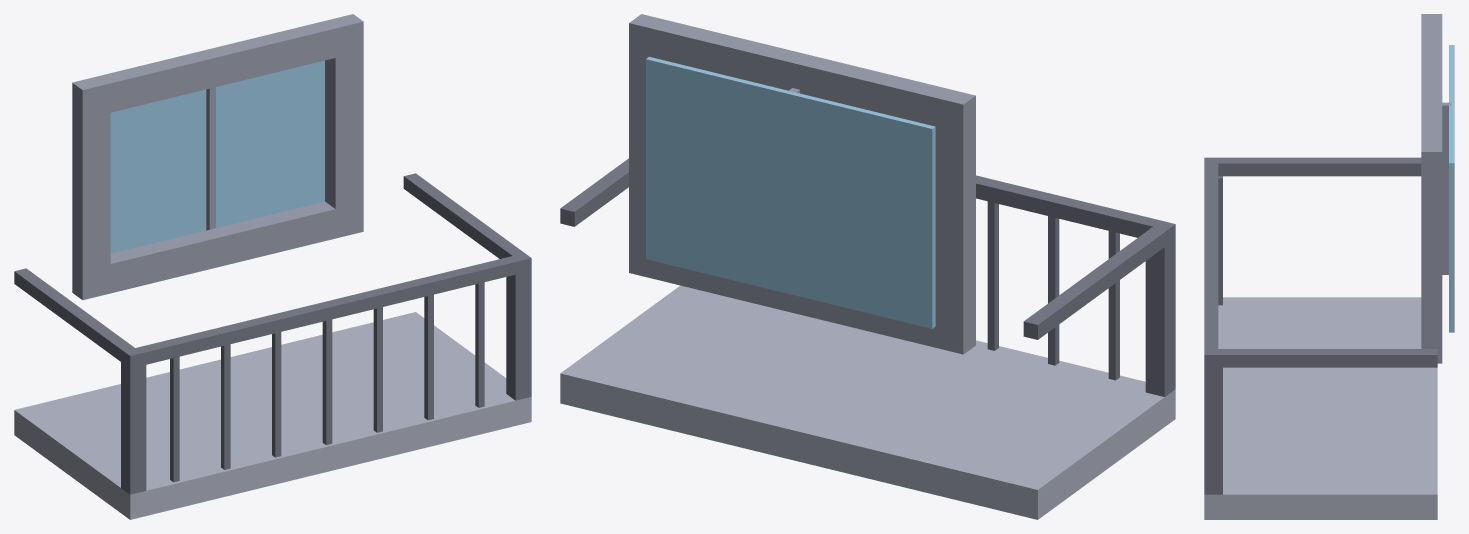
Rendered from balcony-classic.glb.
3 renders of one model, left to right at view 1: azimuth 30°, elevation 25°; view 2: azimuth 150°, elevation 25°; view 3: azimuth 270°, elevation 25°, orthographic. The views are drawn at different scales.
Visible parts, largest first — view 1: balcony-classic; view 2: balcony-classic; view 3: balcony-classic.
Part boxes in pixels (x1,y1,x2,y2): balcony-classic: [14, 14, 531, 519]; balcony-classic: [560, 14, 1175, 519]; balcony-classic: [1204, 14, 1454, 519].
Bounding box in the file's own units: 1 × 0.8 × 0.536.
Materials: 1 (1 with a texture image).
